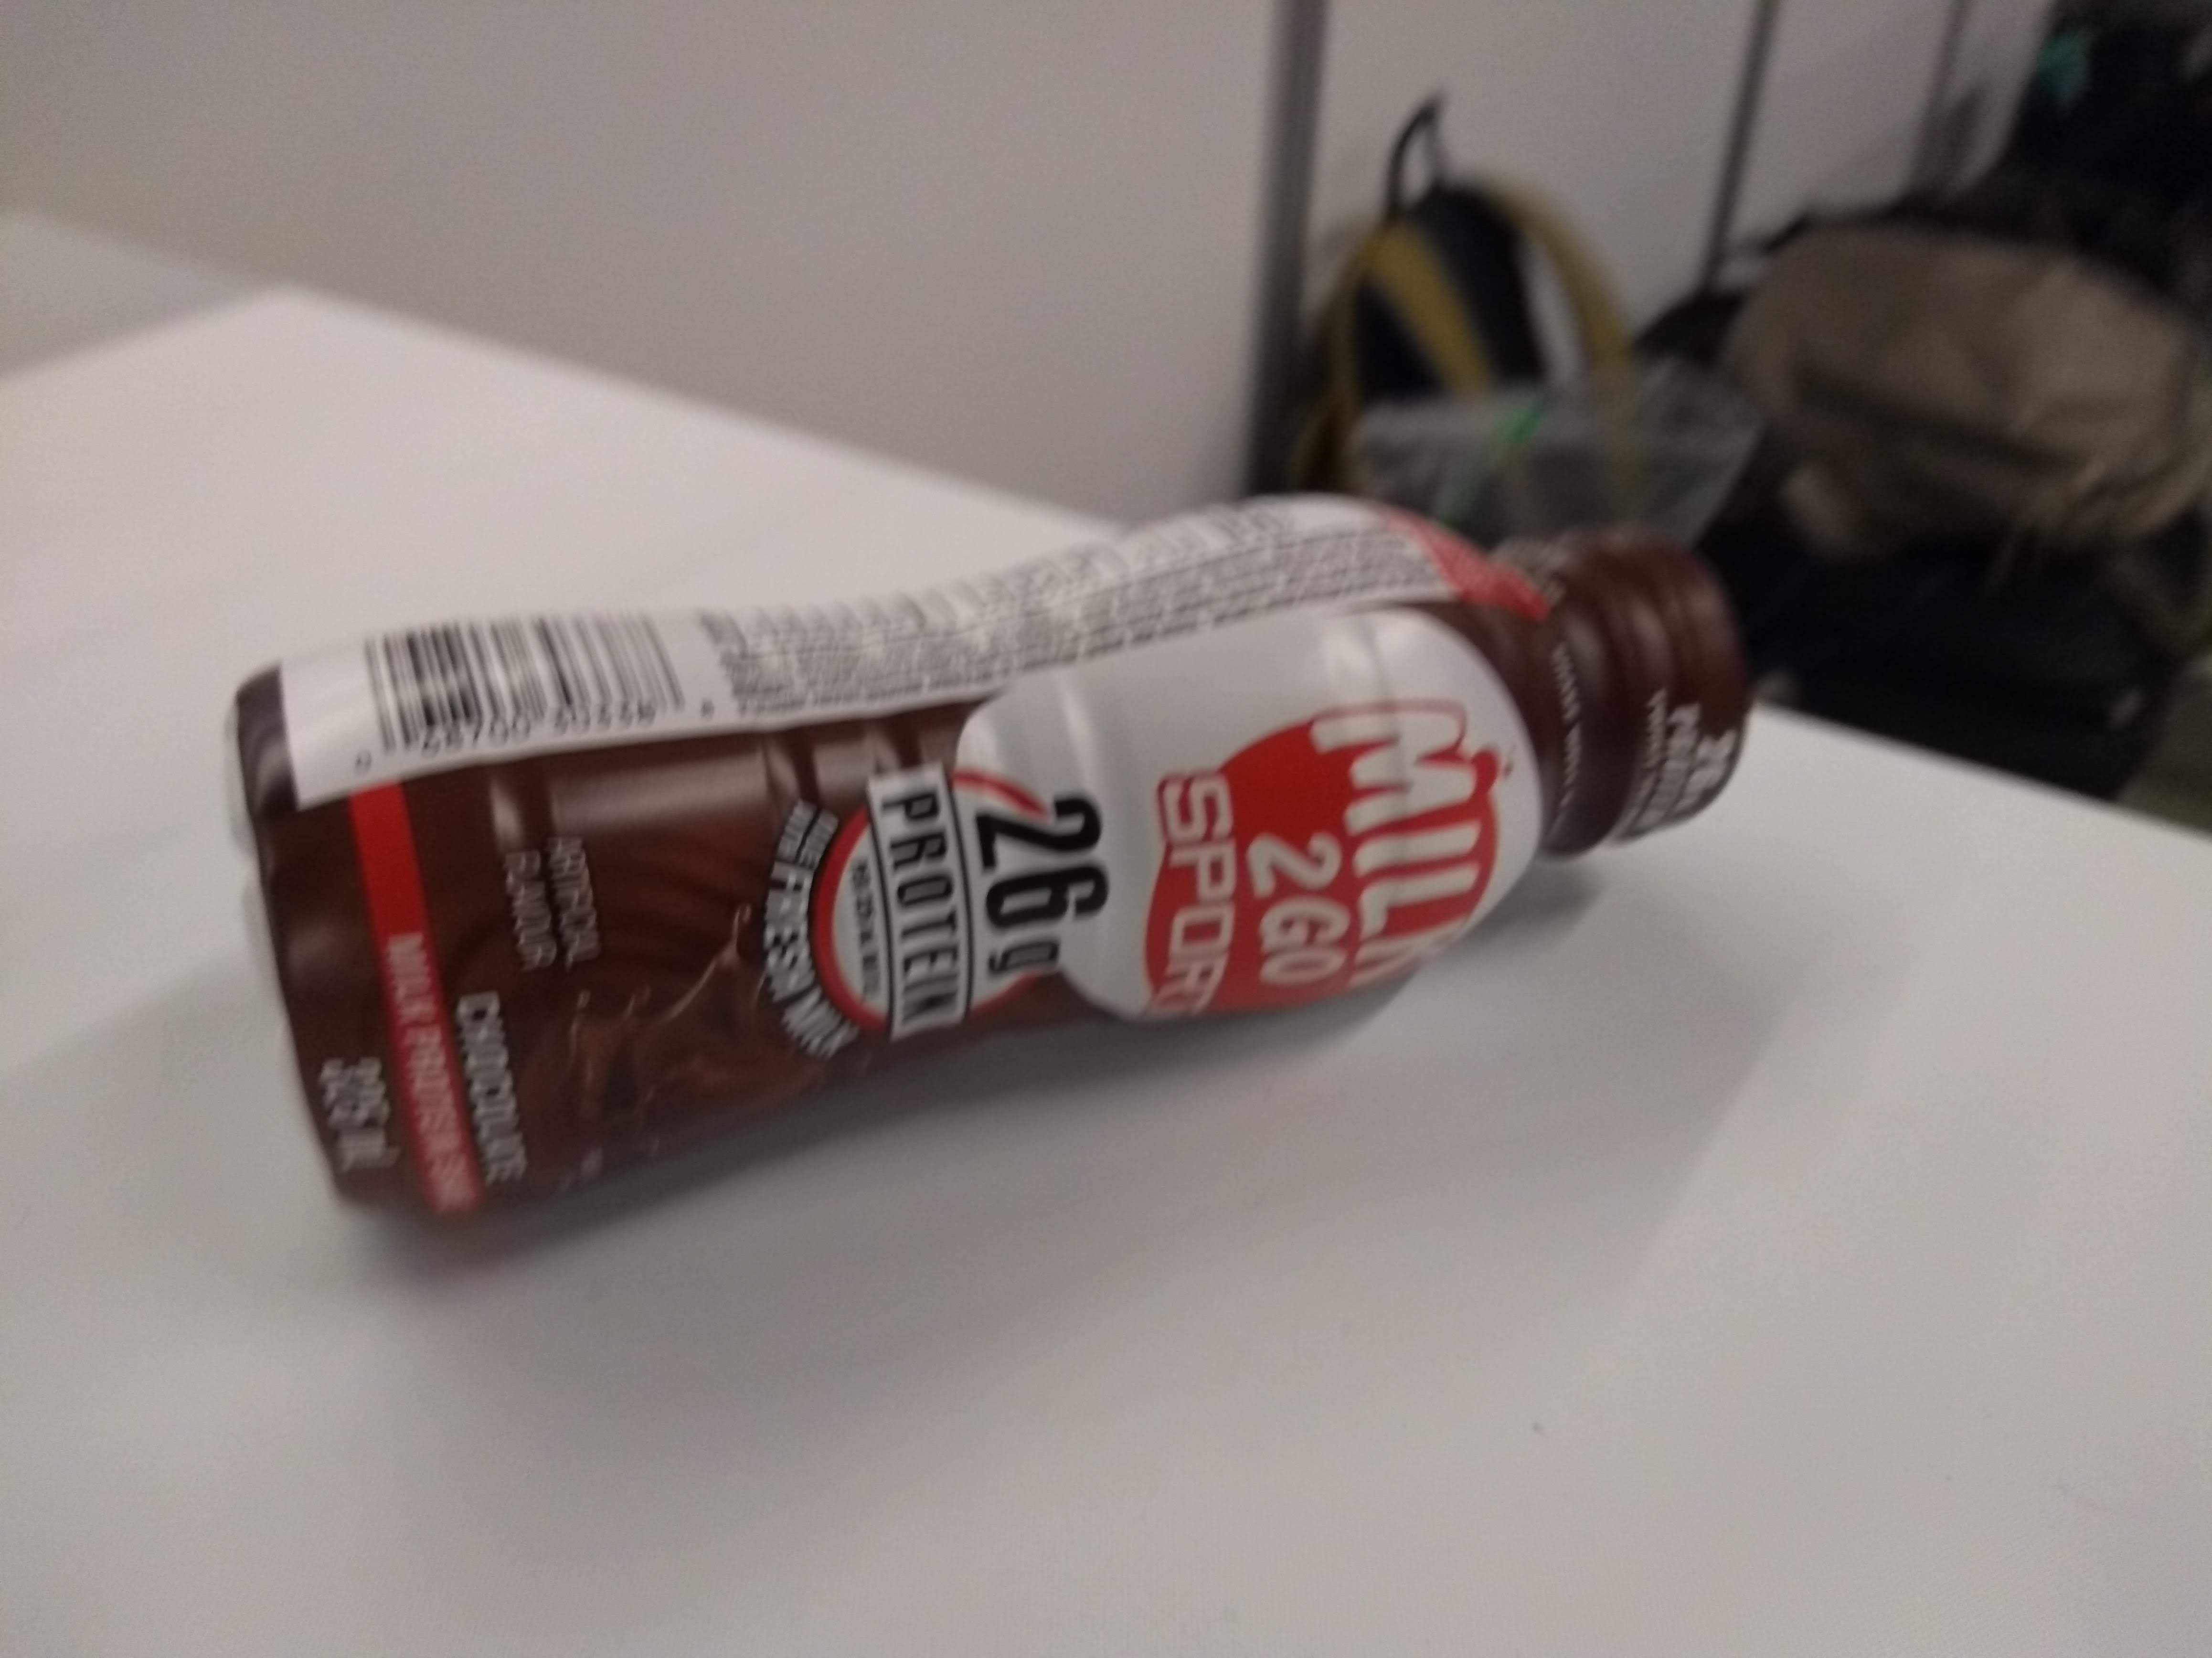chocolate_drink: (206, 498, 1757, 1243)
